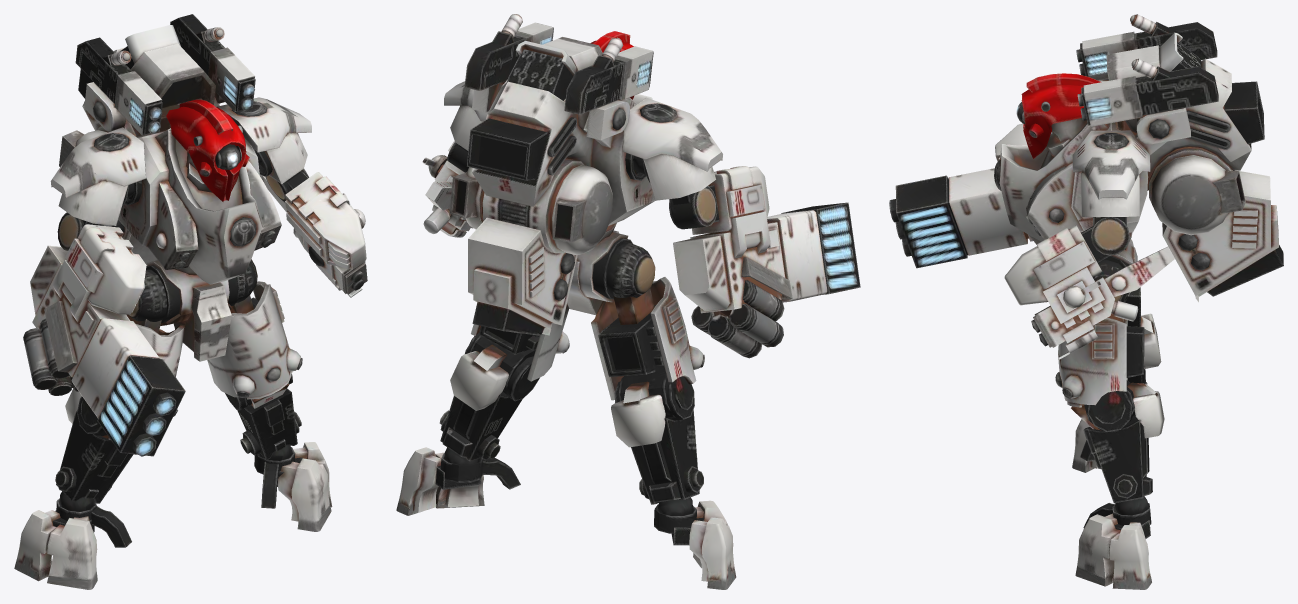
The model's file is ghostkeel-transformed.glb.
3 views of the same model, side by side, from view 1: azimuth 30°, elevation 25°; view 2: azimuth 150°, elevation 25°; view 3: azimuth 270°, elevation 25° (orthographic). The views are drawn at different scales.
Visible parts, largest first — view 1: FBXASC0481FBXASC032-FBXASC032Default (×20); view 2: FBXASC0481FBXASC032-FBXASC032Default (×18); view 3: FBXASC0481FBXASC032-FBXASC032Default (×17).
Boxes of the visible parts, x1,y1,x2,y2 form: FBXASC0481FBXASC032-FBXASC032Default (×20): [14, 14, 367, 589]; FBXASC0481FBXASC032-FBXASC032Default (×18): [396, 14, 860, 589]; FBXASC0481FBXASC032-FBXASC032Default (×17): [889, 14, 1283, 589].
Bounding box in the file's own units: 88.29 × 127 × 93.66.
1 material, 1 textured.
